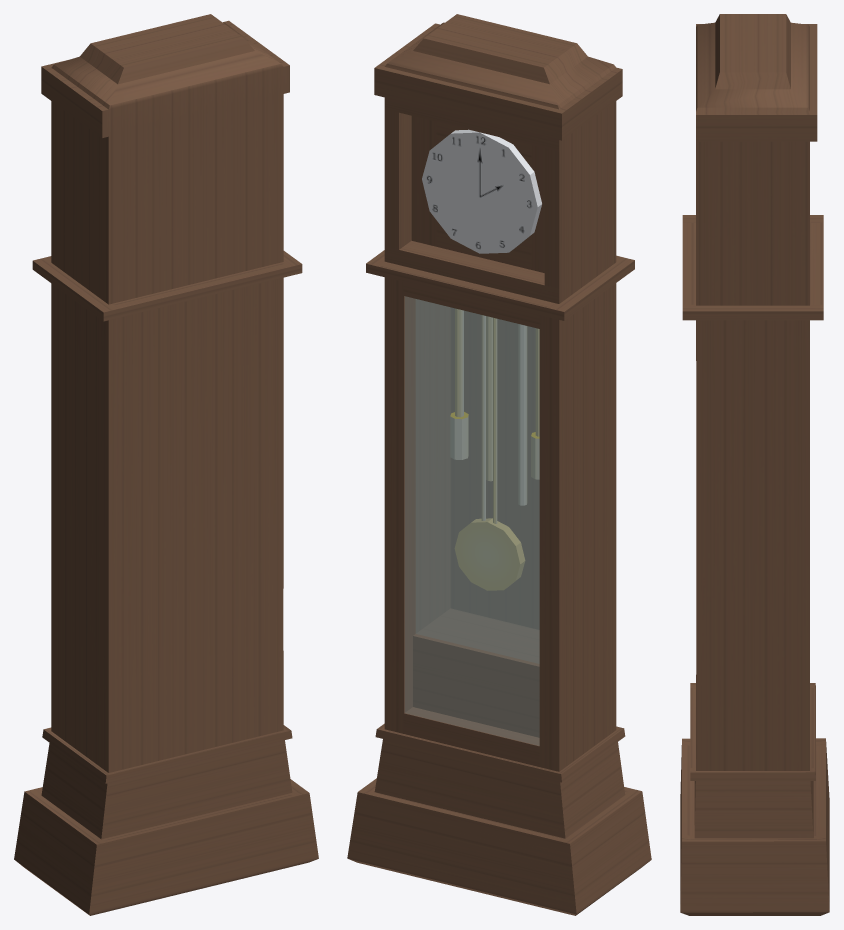
Rendered from GrandfatherClock.fbx.
3 views of the same model, side by side, from view 1: azimuth 30°, elevation 25°; view 2: azimuth 150°, elevation 25°; view 3: azimuth 270°, elevation 25° (orthographic).
Parts seen in each view (by area): view 1: Grandfather_Clock; view 2: Grandfather_Clock; view 3: Grandfather_Clock.
Boxes of the visible parts, x1=… form: Grandfather_Clock: x1=14, y1=14, x2=318, y2=915; Grandfather_Clock: x1=347, y1=14, x2=651, y2=915; Grandfather_Clock: x1=680, y1=14, x2=829, y2=915.
Bounding box in the file's own units: 72.77 × 250 × 41.24.
2 materials, 1 textured.
